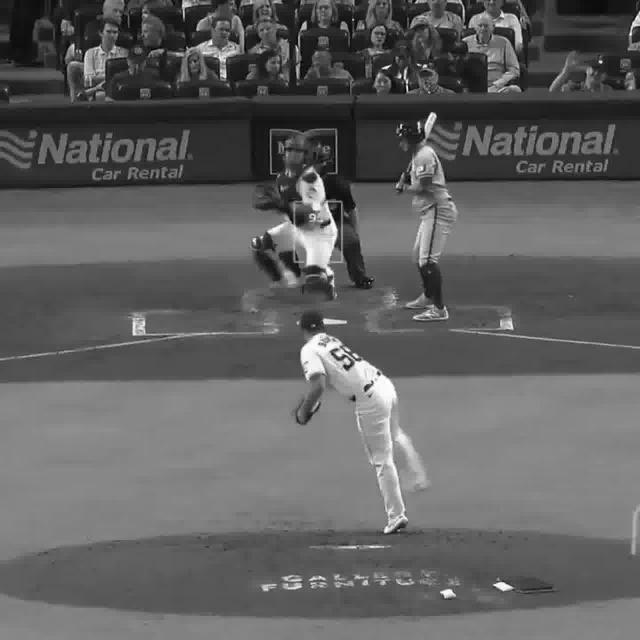base: (321, 314, 350, 329)
baseball_glove: (252, 184, 281, 212), (296, 396, 320, 421)
bat: (395, 110, 442, 191)
shoe: (381, 512, 412, 536), (416, 306, 450, 324), (403, 295, 436, 311), (266, 274, 296, 290)
